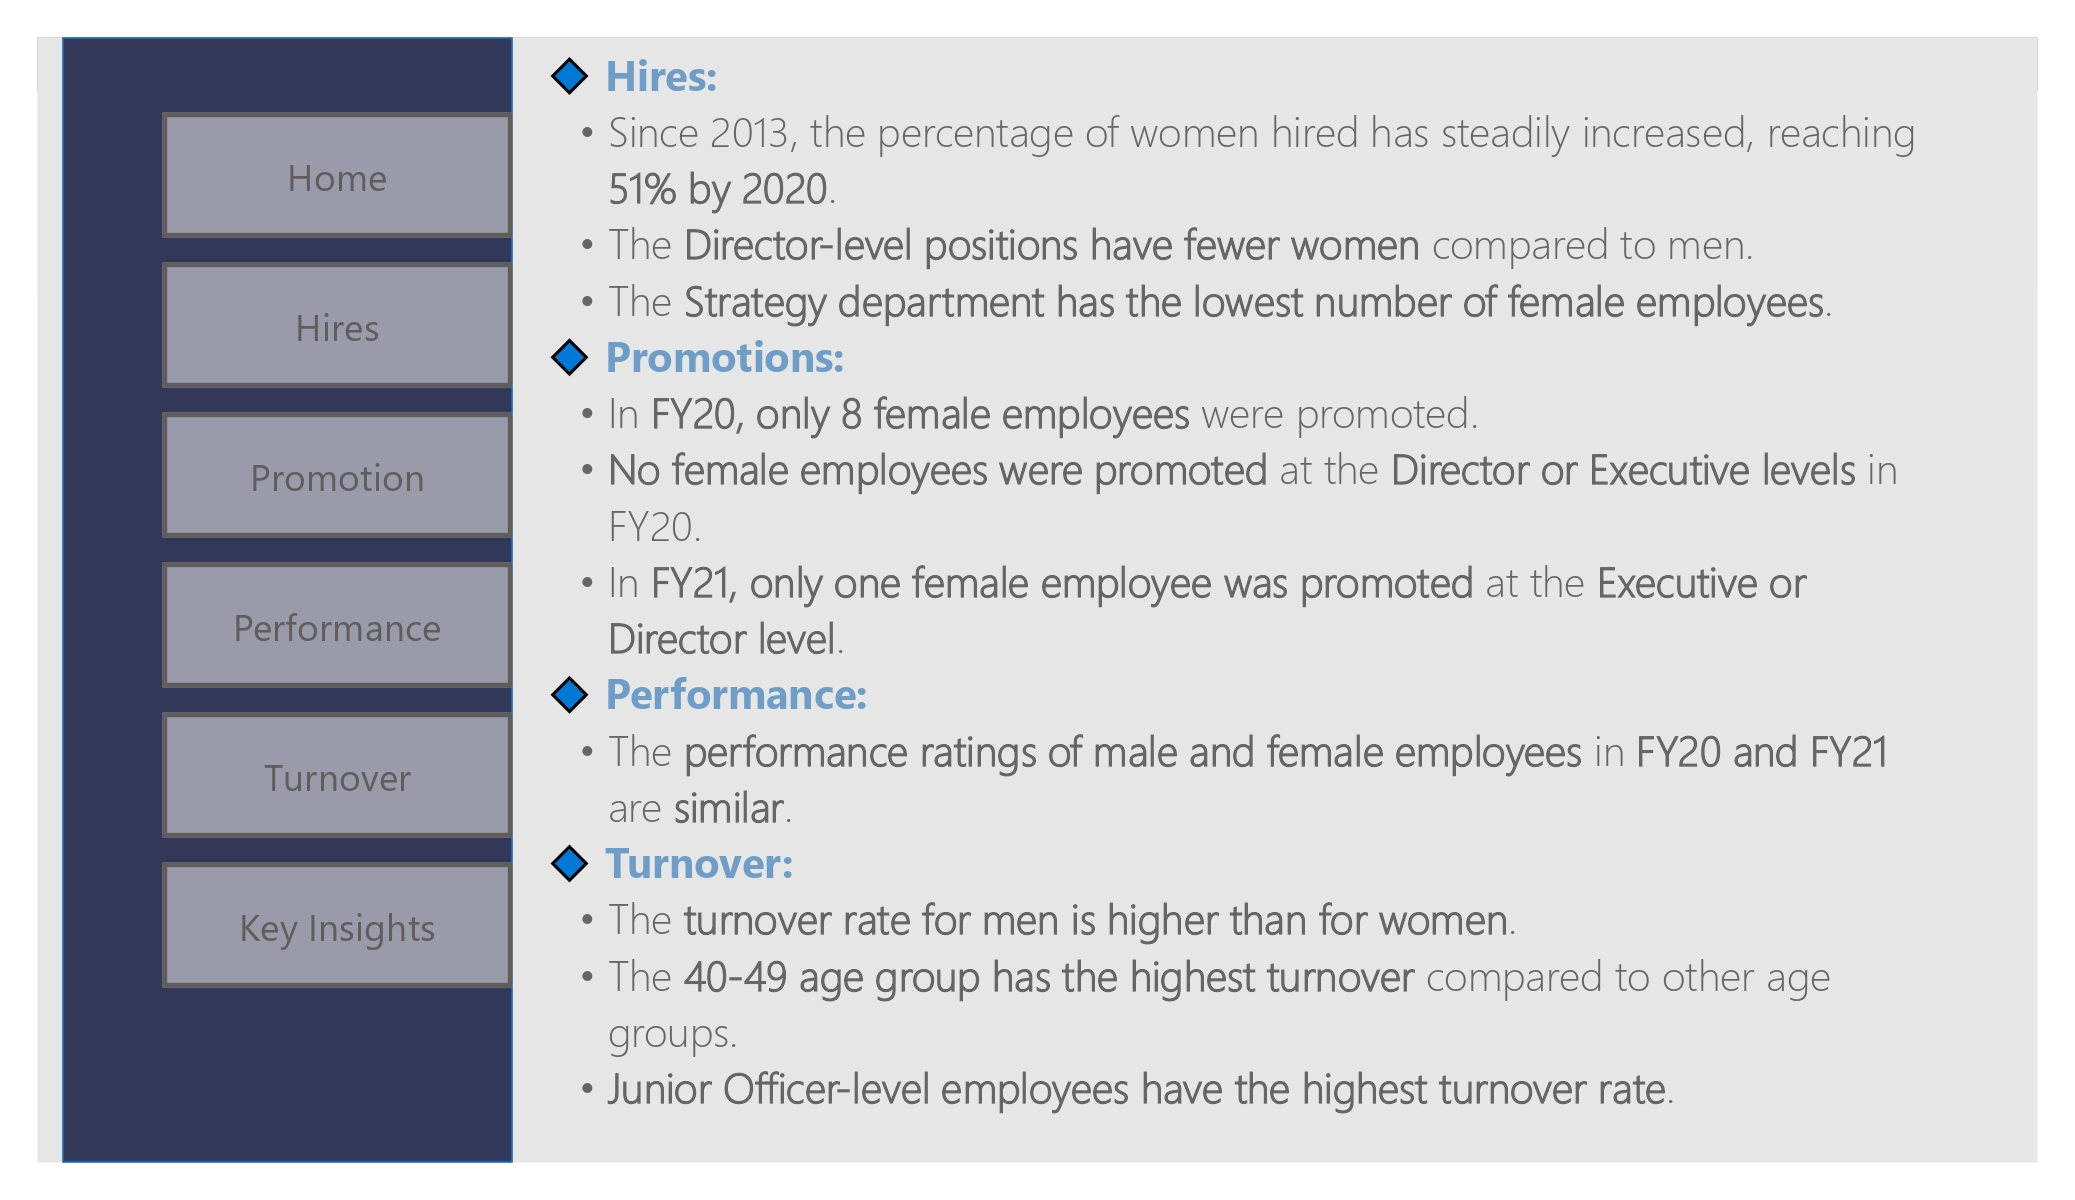

The page's visual inventory and layout, read from the dashboard file:
{"tool":"powerbi","page":{"name":"Key Insight","canvas":[1280,720],"ordinal":5},"visuals":[{"type":"shape","box":[16,0,288,720],"z":0},{"type":"actionButton","box":[80,48,224,80],"z":1000},{"type":"actionButton","box":[80,144,224,80],"z":3000},{"type":"actionButton","box":[80,240,224,80],"z":4000},{"type":"actionButton","box":[80,336,224,80],"z":5000},{"type":"actionButton","box":[80,432,224,80],"z":6000},{"type":"actionButton","box":[80,528,224,80],"z":7000},{"type":"textbox","box":[320,0,896,720],"z":7001}]}

Visuals, with their boxes on the page's 1280x720 design canvas (x1, y1, x2, y2). These are canvas units, not pixel positions in the 2075x1200 screenshot, which may show the page scaled, cropped or inside an application window:
shape: (left=16, top=0, right=304, bottom=720)
actionButton: (left=80, top=48, right=304, bottom=128)
actionButton: (left=80, top=144, right=304, bottom=224)
actionButton: (left=80, top=240, right=304, bottom=320)
actionButton: (left=80, top=336, right=304, bottom=416)
actionButton: (left=80, top=432, right=304, bottom=512)
actionButton: (left=80, top=528, right=304, bottom=608)
textbox: (left=320, top=0, right=1216, bottom=720)
